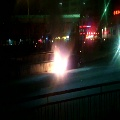fire: (48, 50, 67, 75)
